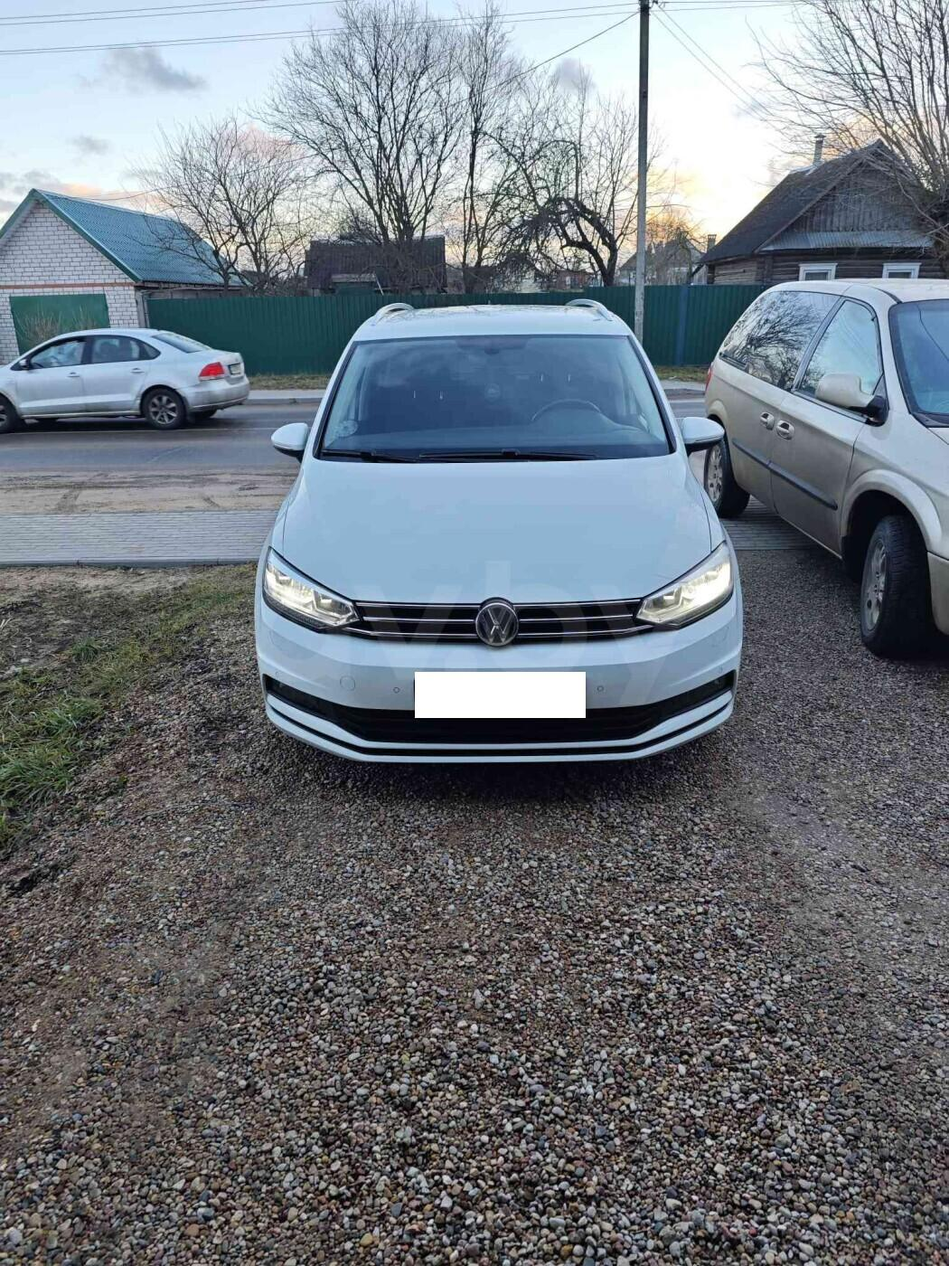Touran_2015: (257, 302, 748, 779)
